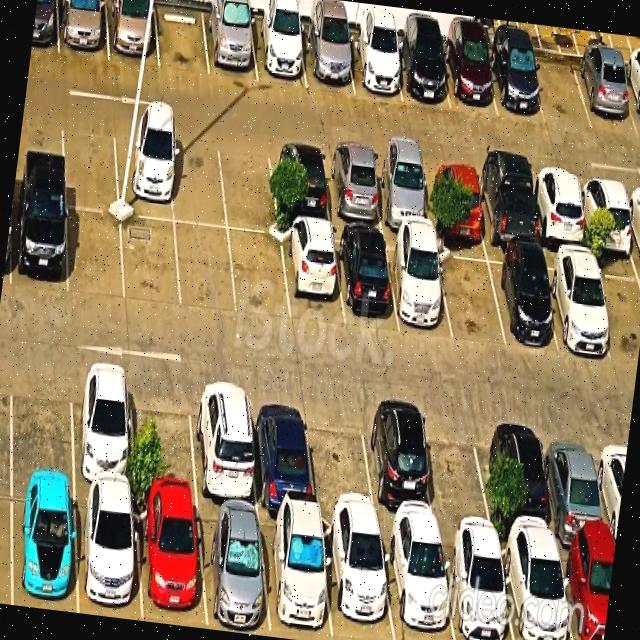empty: (305, 397, 377, 522), (424, 408, 494, 536), (131, 372, 198, 500), (11, 358, 73, 482), (435, 243, 505, 345), (218, 136, 278, 234), (121, 215, 180, 310), (228, 231, 290, 321), (169, 130, 227, 226), (175, 223, 236, 314), (62, 115, 118, 211), (67, 207, 124, 300), (594, 255, 640, 365), (529, 52, 591, 129), (155, 2, 209, 75)
occupied: (196, 502, 270, 634), (361, 403, 438, 529), (259, 510, 332, 640), (134, 495, 206, 625), (321, 517, 394, 640), (75, 486, 142, 618), (542, 421, 611, 547), (11, 480, 76, 612), (248, 388, 316, 512), (191, 380, 257, 507), (380, 527, 454, 640), (492, 415, 557, 541), (71, 363, 134, 491), (440, 531, 513, 640), (541, 250, 612, 356), (499, 537, 572, 640), (384, 235, 452, 339), (486, 248, 557, 347), (333, 228, 399, 329), (281, 223, 344, 325), (113, 122, 173, 220), (557, 542, 615, 640), (473, 164, 539, 248), (11, 195, 67, 294), (422, 159, 485, 240), (572, 56, 637, 134), (269, 142, 331, 223), (370, 152, 432, 231), (322, 147, 383, 227), (529, 169, 589, 248), (577, 174, 636, 253), (487, 44, 545, 122), (441, 39, 497, 115), (392, 37, 450, 108), (250, 16, 307, 88), (344, 31, 402, 101), (203, 8, 257, 82), (106, 0, 159, 66), (301, 26, 354, 92), (57, 0, 109, 60), (619, 64, 640, 134)
